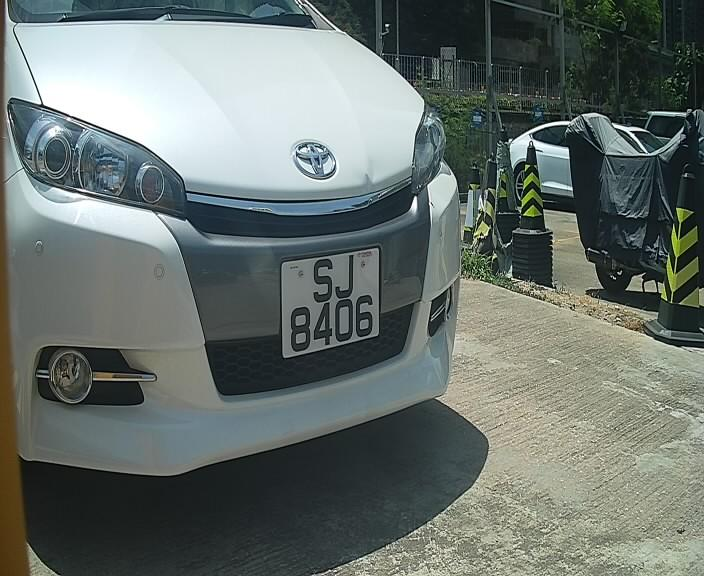Car: (4, 1, 488, 528)
License Plate: (274, 232, 387, 366)
